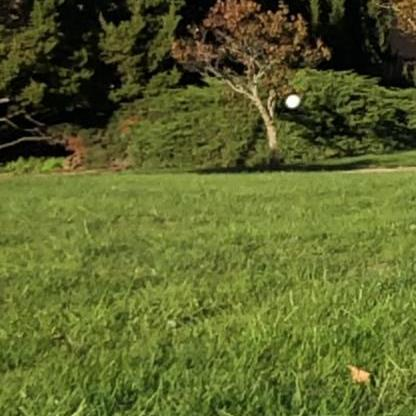golfball: (281, 91, 298, 108)
